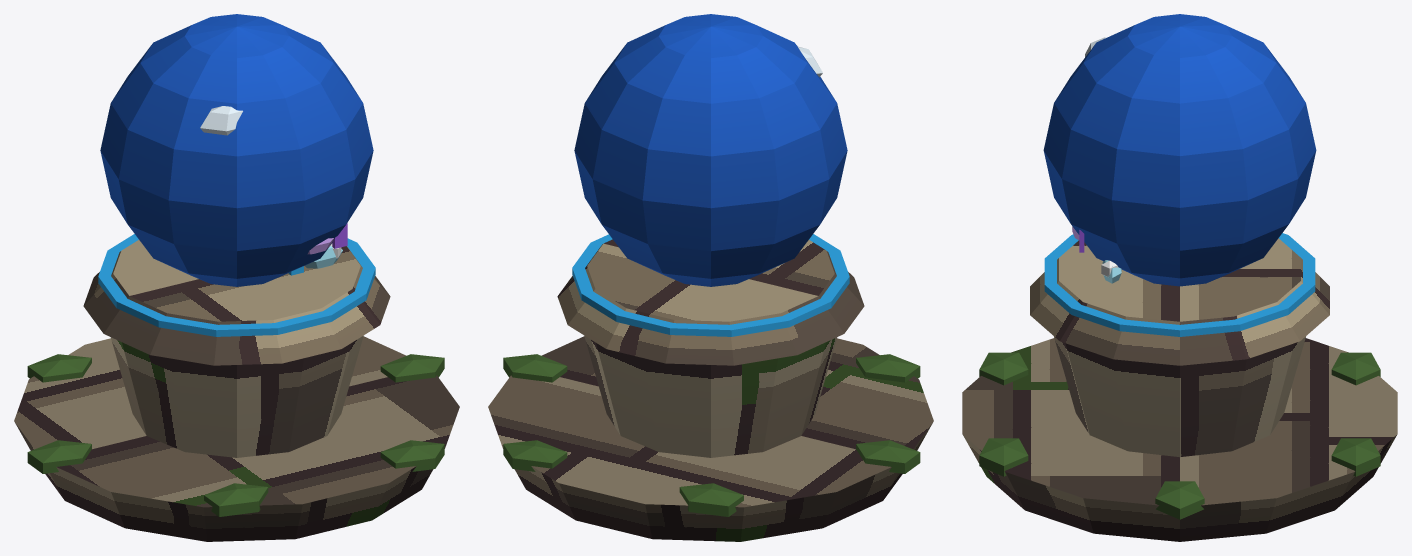
File: orb_post_grand.glb
3 renders of one model, left to right at view 1: azimuth 30°, elevation 25°; view 2: azimuth 150°, elevation 25°; view 3: azimuth 270°, elevation 25°, orthographic.
Visible parts, largest first — view 1: orb_post_grand; view 2: orb_post_grand; view 3: orb_post_grand.
Boxes of the visible parts, <box> form: orb_post_grand: <box>14,14,459,541</box>; orb_post_grand: <box>488,14,933,541</box>; orb_post_grand: <box>962,14,1397,541</box>.
Bounding box in the file's own units: 1.9 × 1.92 × 1.75.
Materials: 3 (1 with a texture image).
